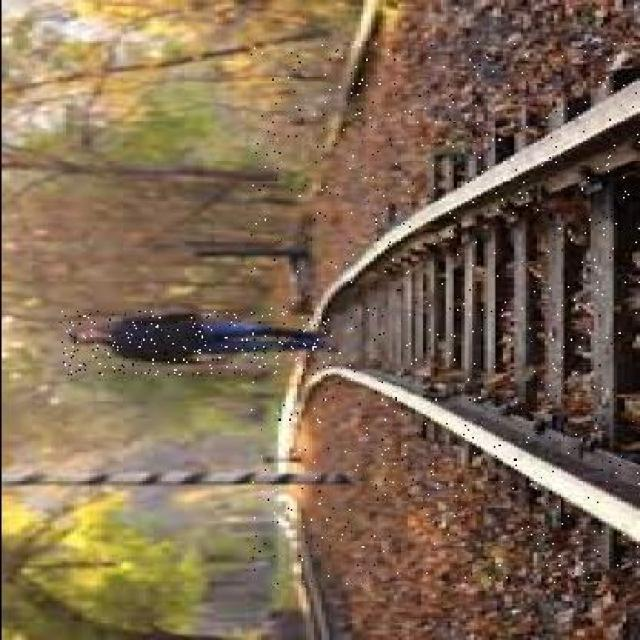danger: (59, 310, 330, 375)
rail: (250, 40, 638, 587)
